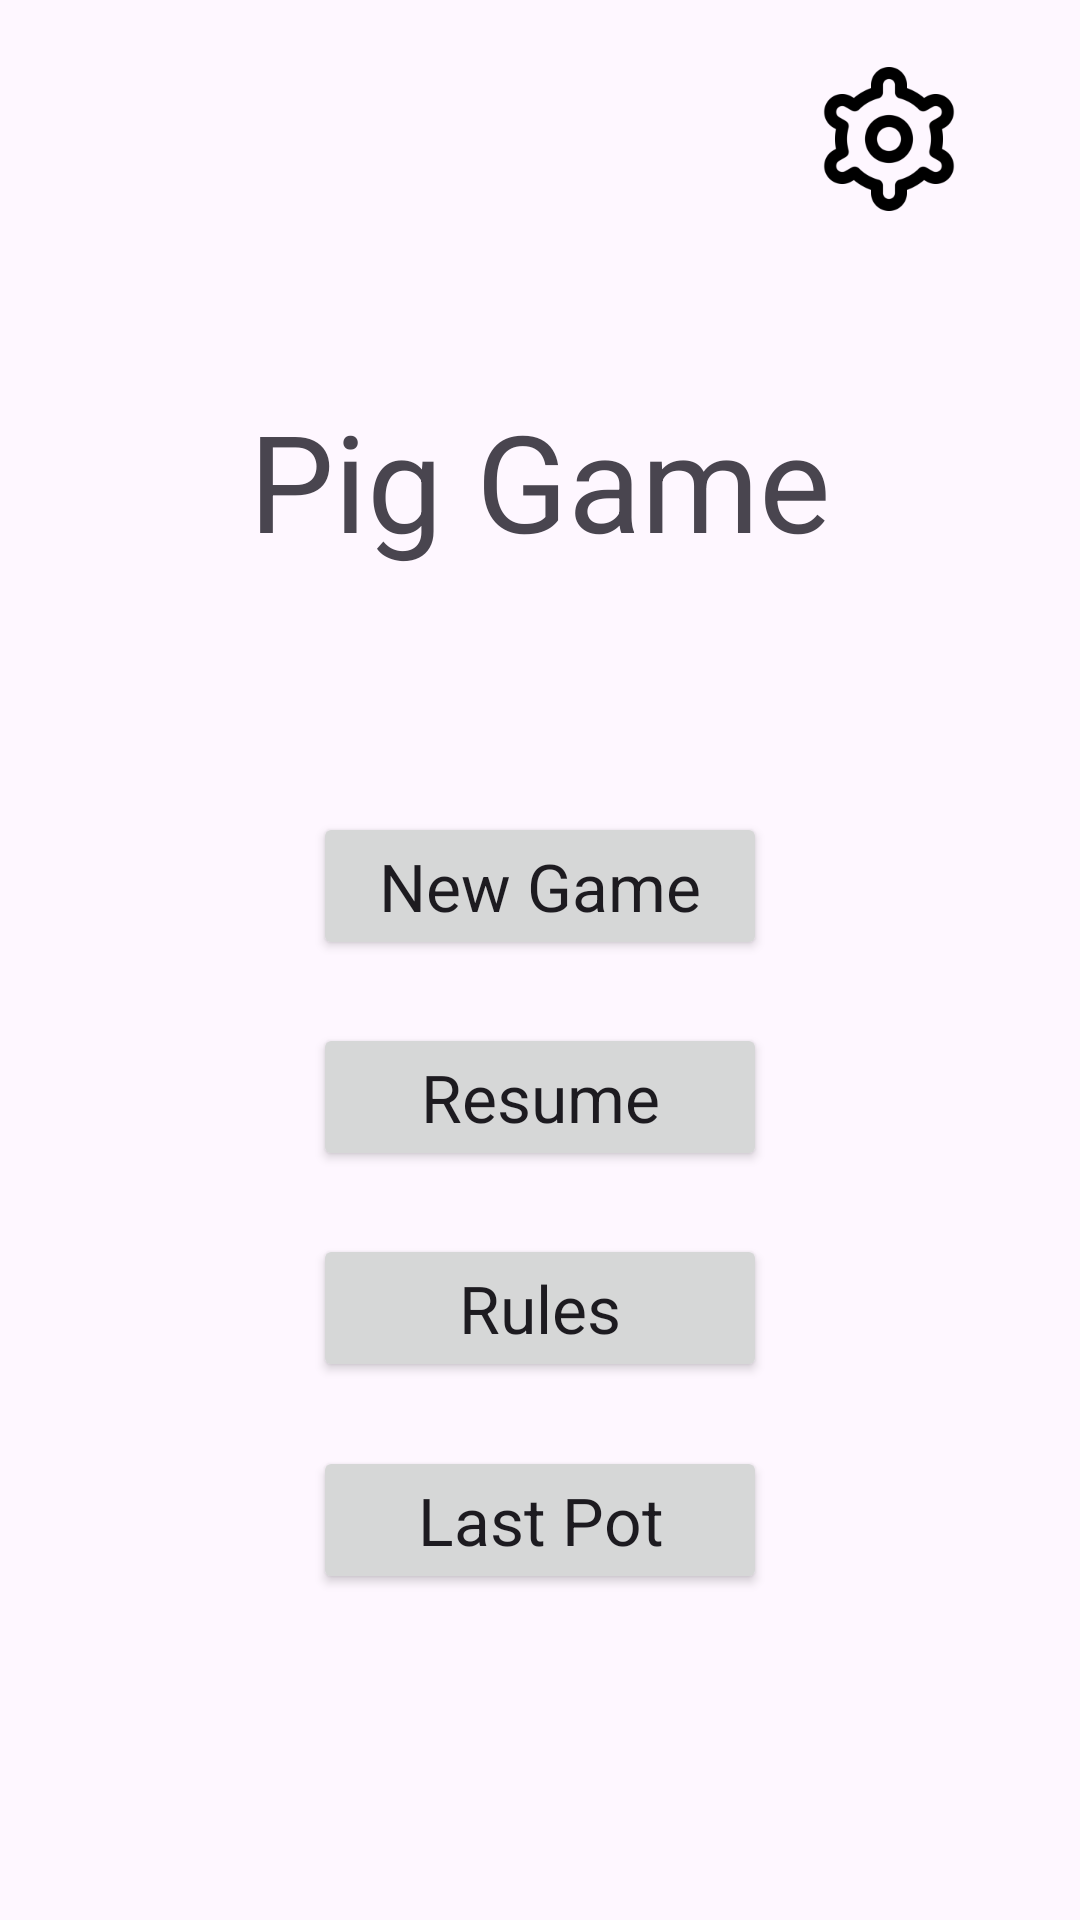

Icon bounding boxes for this 1080*1920 phone screenshot, format rect(x1, y1, x2, y2):
settings: rect(824, 67, 954, 211)
